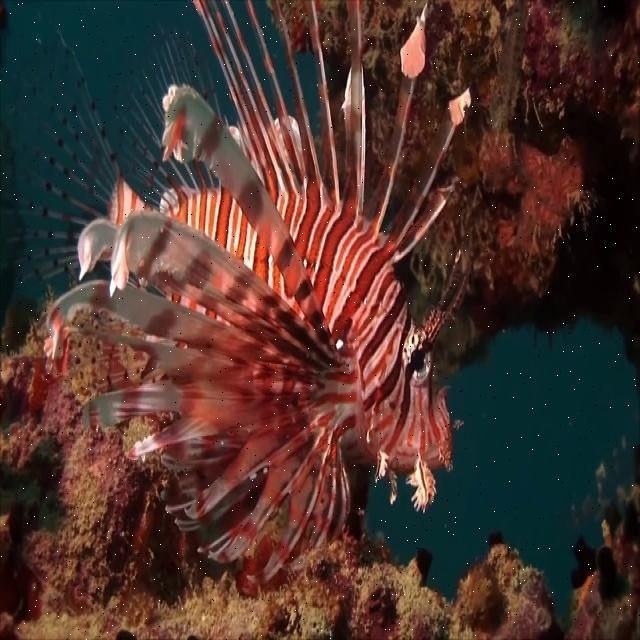fish: (1, 0, 474, 585)
